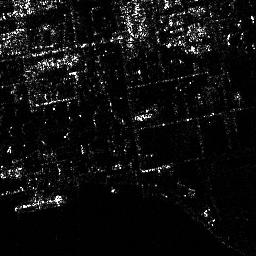ship: (15, 193, 65, 212)
